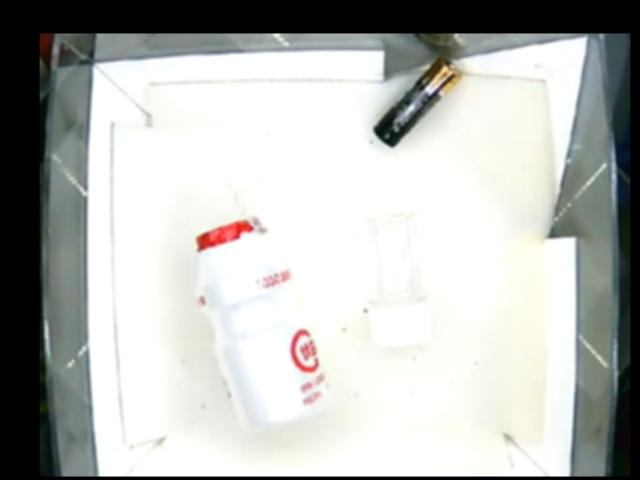Battery: (368, 60, 460, 148)
Bottle: (191, 215, 332, 430), (357, 208, 432, 350)
